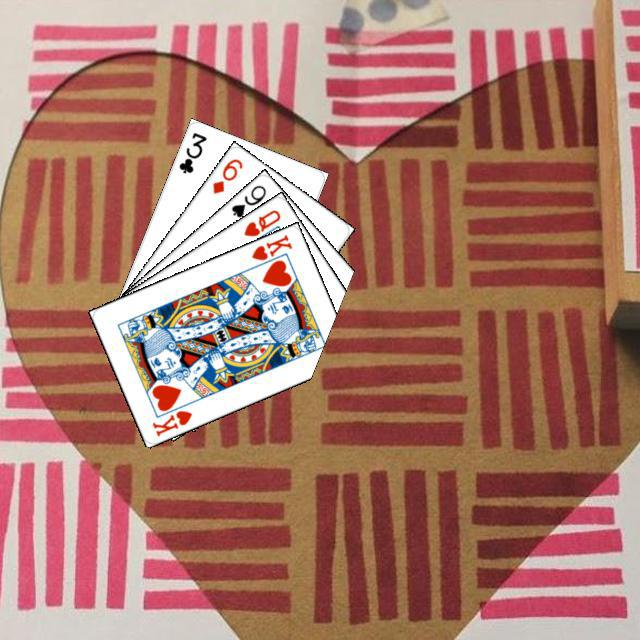3c: (174, 127, 208, 175)
6d: (207, 154, 244, 195)
9s: (226, 180, 268, 219)
Kh: (247, 230, 294, 271), (147, 405, 194, 438)
Qh: (239, 205, 282, 238)
